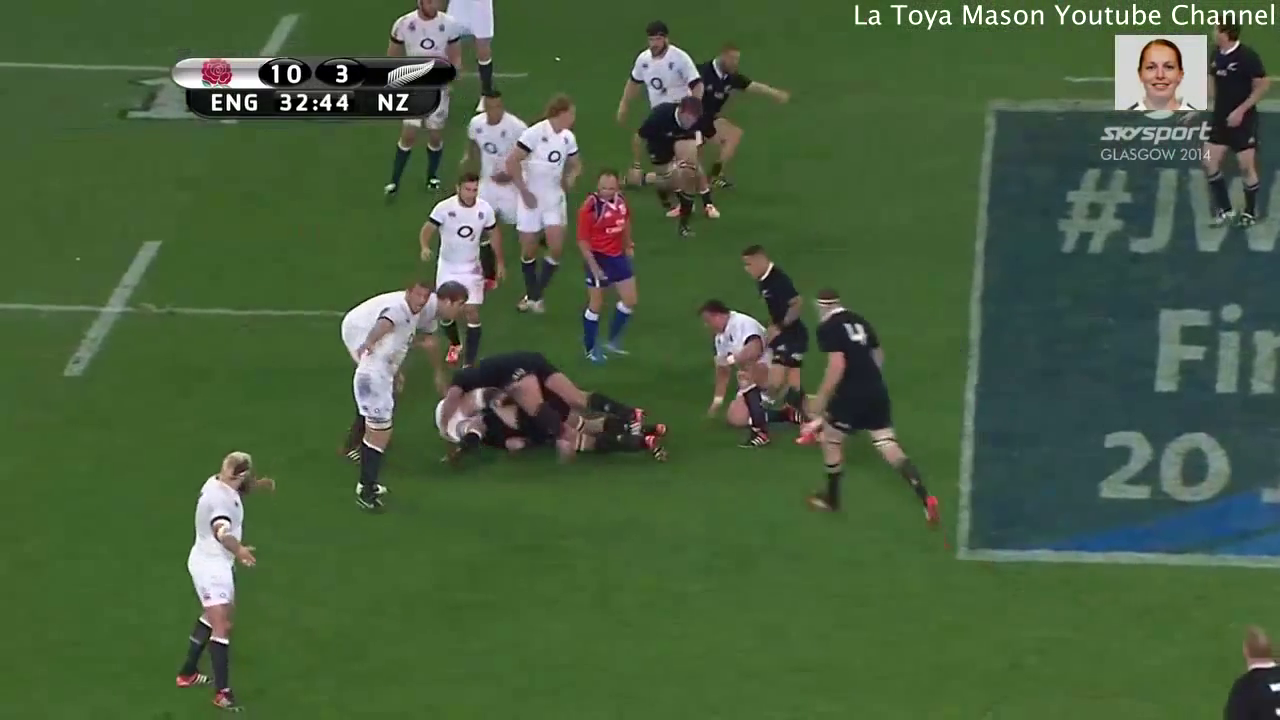player: (805, 285, 948, 530), (166, 444, 281, 714), (336, 277, 433, 523), (510, 96, 589, 321), (695, 40, 800, 206), (737, 243, 820, 444), (413, 178, 495, 368), (333, 275, 477, 377), (569, 166, 639, 368), (694, 296, 776, 436), (459, 88, 524, 256), (628, 100, 702, 244), (615, 16, 707, 124)
